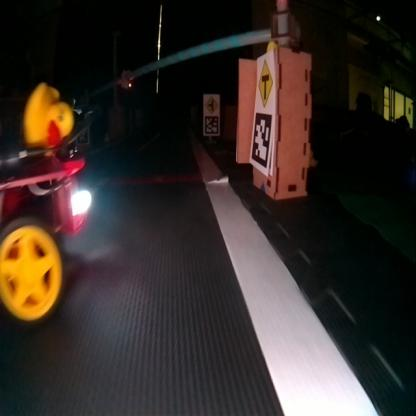Duckie: (25, 84, 71, 144)
Duckiebot: (0, 147, 88, 317)
Intersection sign: (257, 60, 271, 107), (203, 94, 218, 113)
QR code: (250, 118, 271, 167), (205, 117, 217, 133)
Traffic light: (121, 71, 131, 88)
